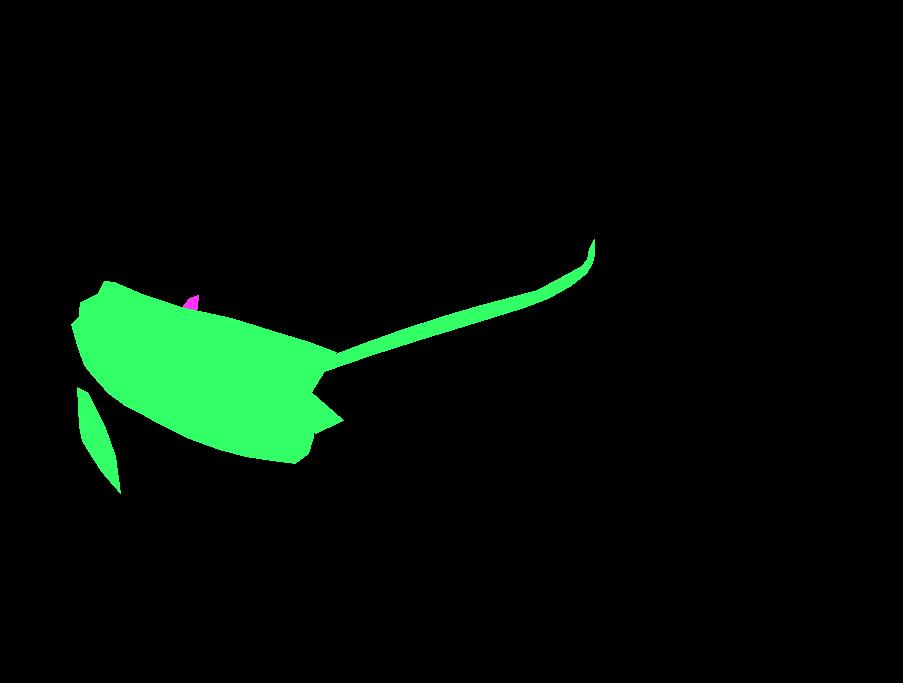Broken part: (78, 281, 343, 433), (324, 239, 594, 371), (71, 318, 313, 463), (77, 387, 120, 493)
Dent: (181, 295, 198, 313)
